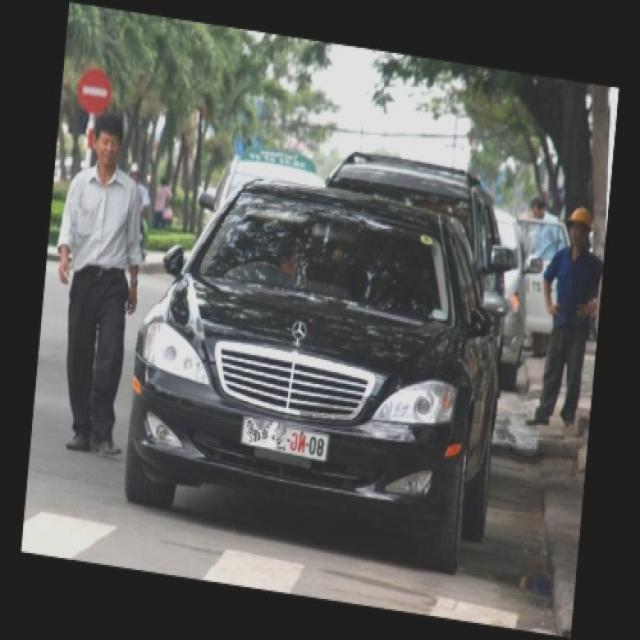bien_ngoai_giao: (237, 413, 332, 468)
